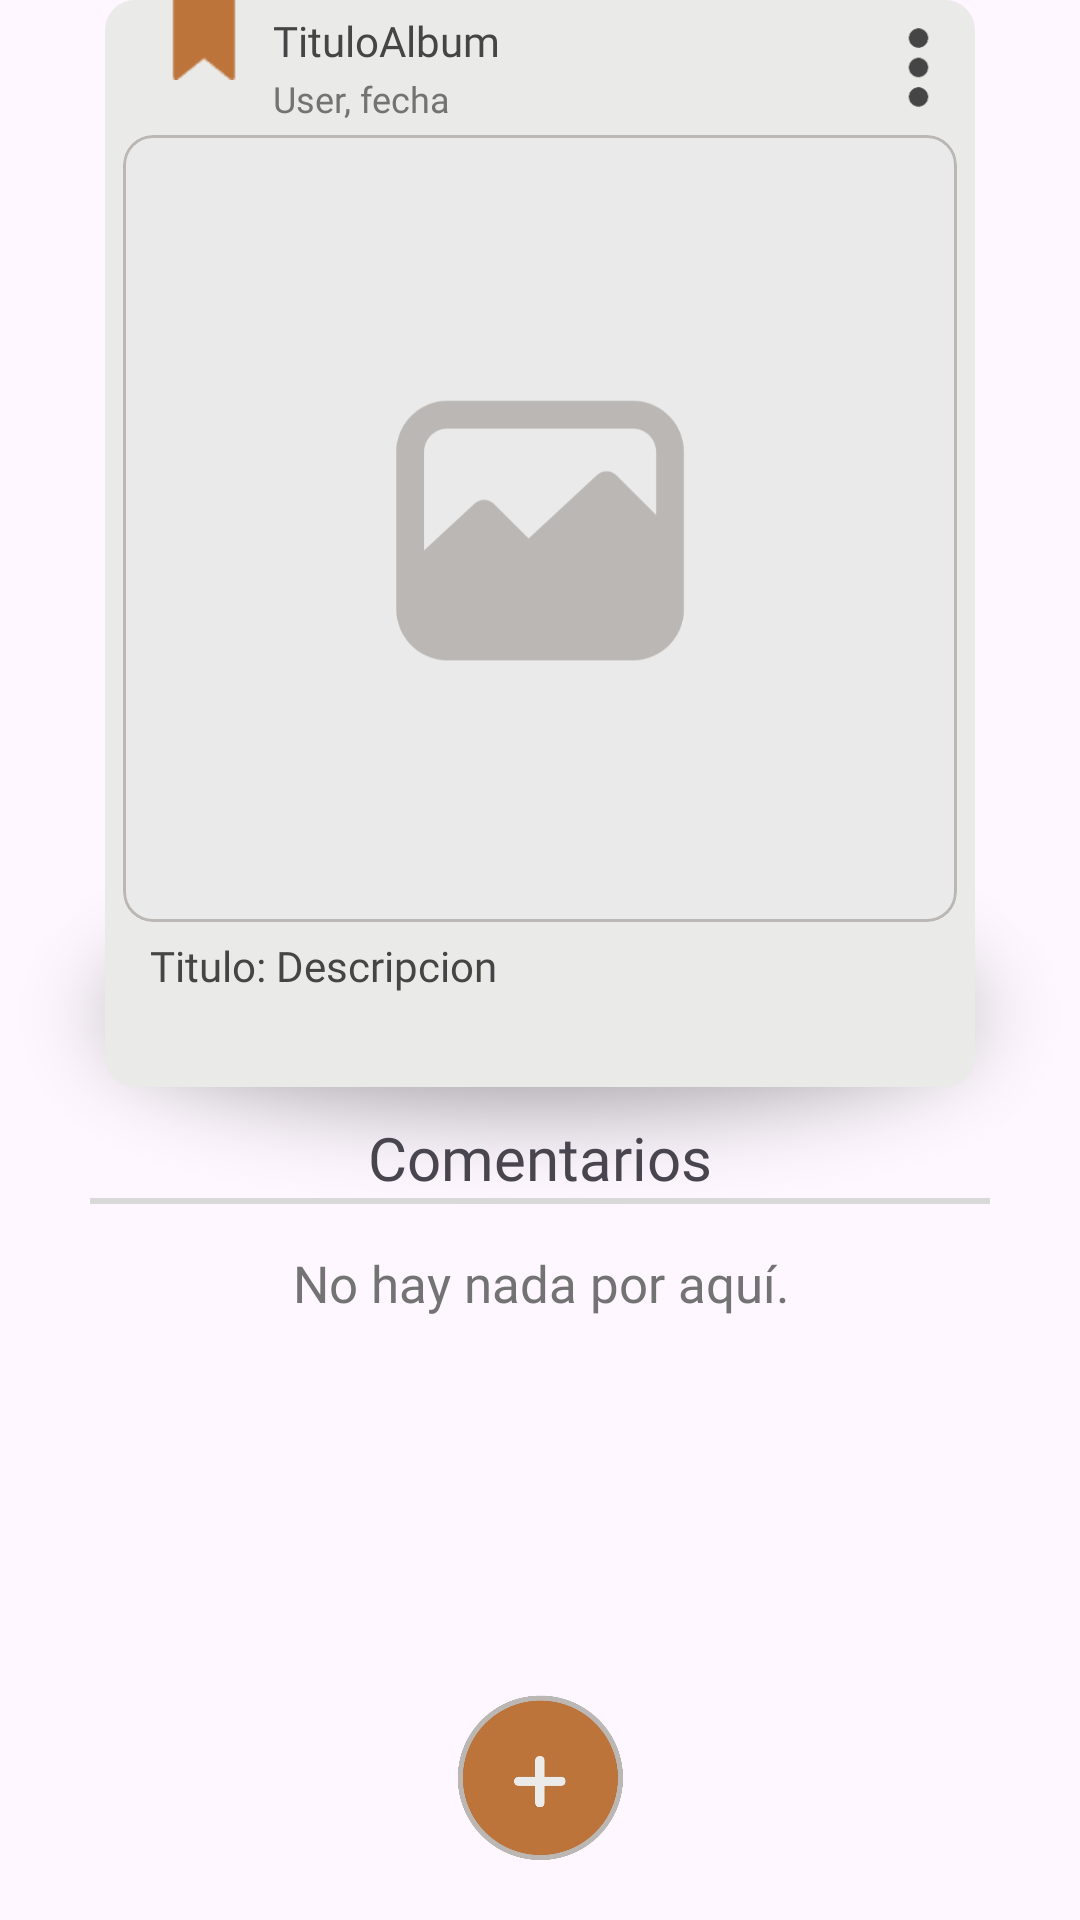

Icon bounding boxes for this 1080 x 1920 phone screenshot, format (x1, y1, x2, y2):
bookmark: (172, 0, 236, 80)
botonnuevo: (458, 1696, 623, 1860)
dotsverticalgrey: (908, 28, 929, 107)
